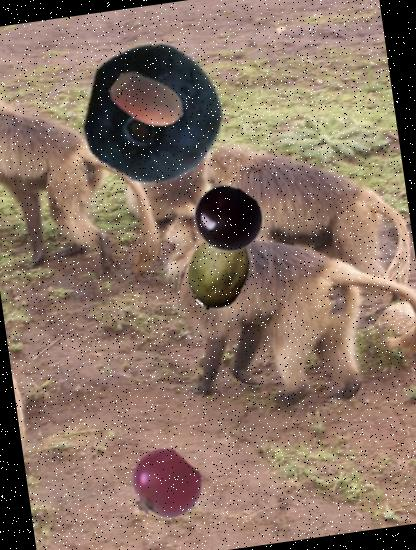Blueberry: (76, 35, 234, 193)
Cherry: (189, 179, 268, 258)
Hazelnut: (106, 57, 193, 144)
Papaya: (176, 228, 264, 314)
Redcurrant: (124, 445, 206, 528)
